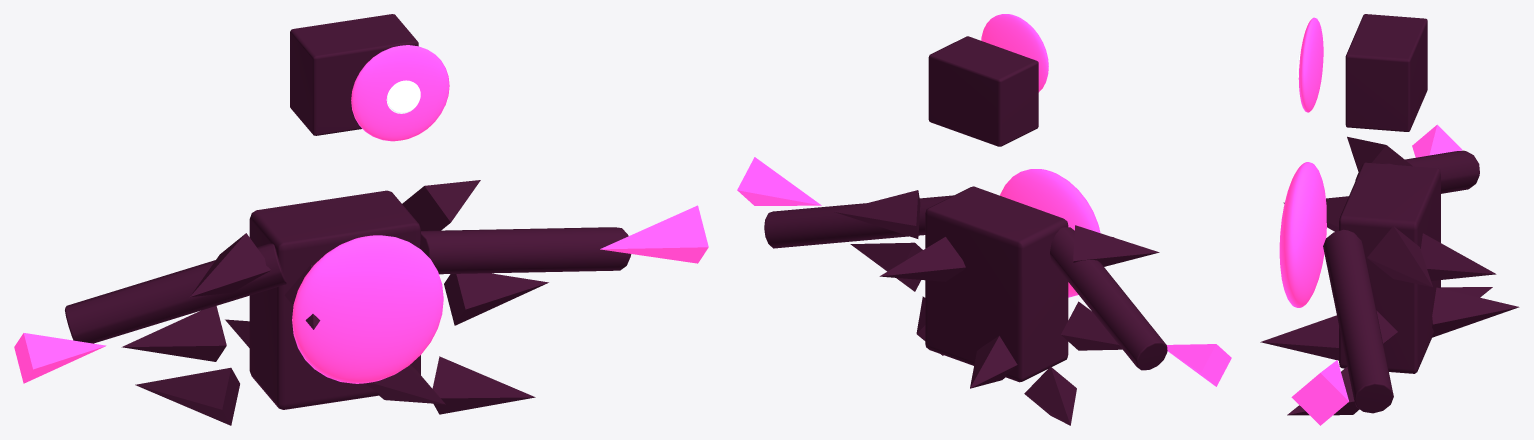
Rendered from cg_virus_grunt.glb.
3 views of the same model, side by side, from view 1: azimuth 30°, elevation 25°; view 2: azimuth 150°, elevation 25°; view 3: azimuth 270°, elevation 25° (orthographic). The views are drawn at different scales.
Parts seen in each view (by area): view 1: virus_corrupt_core, virus_hunched_torso, virus_skull_helmet, virus_right_clawed_arm, virus_left_clawed_arm, virus_single_eye, virus_right_packet_claw, virus_spike_04, virus_spike_05, virus_spike_09, virus_spike_00, virus_spike_06 (+4 smaller); view 2: virus_hunched_torso, virus_skull_helmet, virus_left_clawed_arm, virus_right_clawed_arm, virus_corrupt_core, virus_single_eye, virus_spike_01, virus_right_packet_claw, virus_spike_02, virus_spike_06, virus_spike_04, virus_spike_05 (+3 smaller); view 3: virus_hunched_torso, virus_skull_helmet, virus_right_clawed_arm, virus_corrupt_core, virus_spike_03, virus_spike_01, virus_right_packet_claw, virus_spike_08, virus_left_clawed_arm, virus_single_eye, virus_spike_02, virus_spike_06 (+5 smaller).
Boxes of the visible parts, left/top/right/bottom form: virus_corrupt_core: left=292, top=235, right=443, bottom=383; virus_hunched_torso: left=249, top=190, right=420, bottom=409; virus_skull_helmet: left=290, top=14, right=418, bottom=135; virus_right_clawed_arm: left=419, top=227, right=631, bottom=274; virus_left_clawed_arm: left=65, top=243, right=286, bottom=343; virus_single_eye: left=351, top=45, right=449, bottom=141; virus_right_packet_claw: left=600, top=205, right=708, bottom=263; virus_spike_04: left=135, top=367, right=239, bottom=425; virus_spike_05: left=121, top=306, right=226, bottom=361; virus_spike_09: left=432, top=356, right=535, bottom=414; virus_spike_00: left=444, top=273, right=548, bottom=325; virus_spike_06: left=190, top=233, right=270, bottom=296; virus_hunched_torso: left=925, top=186, right=1068, bottom=382; virus_skull_helmet: left=928, top=36, right=1038, bottom=146; virus_left_clawed_arm: left=1050, top=227, right=1167, bottom=370; virus_right_clawed_arm: left=764, top=195, right=953, bottom=248; virus_corrupt_core: left=1000, top=169, right=1100, bottom=297; virus_single_eye: left=981, top=14, right=1048, bottom=92; virus_spike_01: left=834, top=190, right=920, bottom=238; virus_right_packet_claw: left=737, top=157, right=821, bottom=205; virus_spike_02: left=879, top=237, right=965, bottom=281; virus_spike_06: left=1073, top=225, right=1159, bottom=266; virus_spike_04: left=1024, top=366, right=1076, bottom=425; virus_spike_05: left=1061, top=301, right=1122, bottom=350; virus_hunched_torso: left=1339, top=162, right=1440, bottom=373; virus_skull_helmet: left=1345, top=14, right=1427, bottom=131; virus_right_clawed_arm: left=1323, top=229, right=1393, bottom=413; virus_corrupt_core: left=1279, top=162, right=1326, bottom=307; virus_spike_03: left=1432, top=287, right=1519, bottom=337; virus_spike_01: left=1367, top=226, right=1432, bottom=287; virus_right_packet_claw: left=1291, top=360, right=1348, bottom=425; virus_spike_08: left=1260, top=315, right=1338, bottom=360; virus_left_clawed_arm: left=1355, top=150, right=1479, bottom=193; virus_single_eye: left=1298, top=17, right=1323, bottom=112; virus_spike_02: left=1420, top=233, right=1496, bottom=280; virus_spike_06: left=1347, top=136, right=1412, bottom=171.
Size of the model in its own units: 1.78 by 1.1 by 0.7081.
